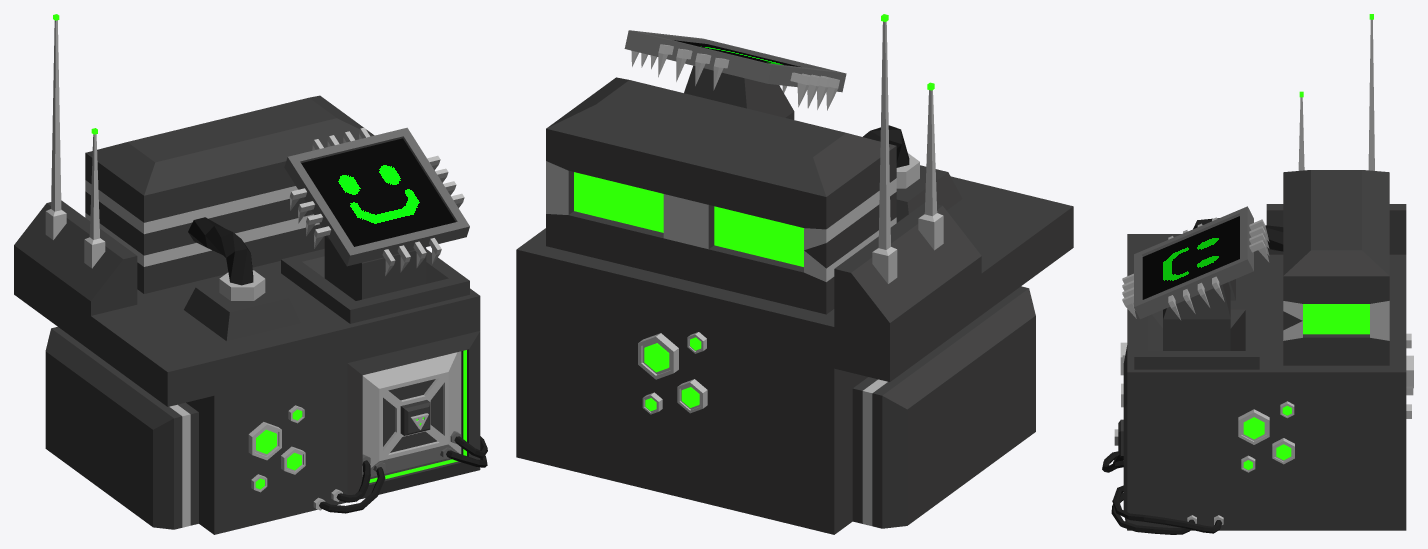
File: Center.fbx
3 renders of one model, left to right at view 1: azimuth 30°, elevation 25°; view 2: azimuth 150°, elevation 25°; view 3: azimuth 270°, elevation 25°, orthographic. The views are drawn at different scales.
Visible parts, largest first — view 1: Center; view 2: Center; view 3: Center.
Boxes of the visible parts, x1,y1,x2,y2 form: Center: (14,14,487,534); Center: (516,14,1073,534); Center: (1102,14,1413,534).
Bounding box in the file's own units: 9.99 × 12.26 × 8.94.
